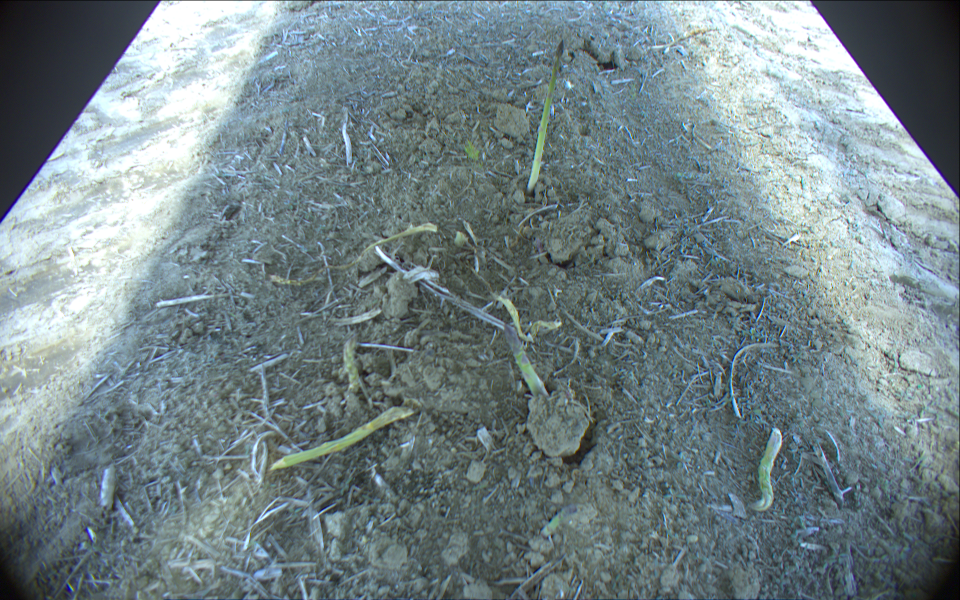aspa: (268, 224, 436, 287), (264, 406, 412, 471), (527, 39, 566, 198), (503, 322, 550, 402), (749, 427, 784, 514), (345, 335, 363, 395)
